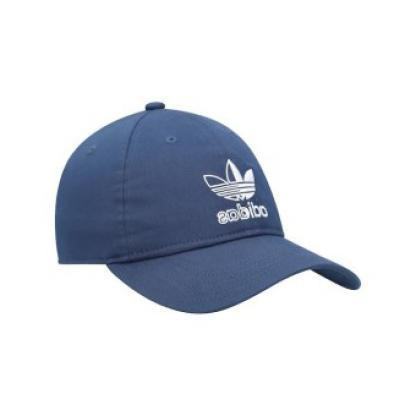cap: (40, 93, 376, 317)
